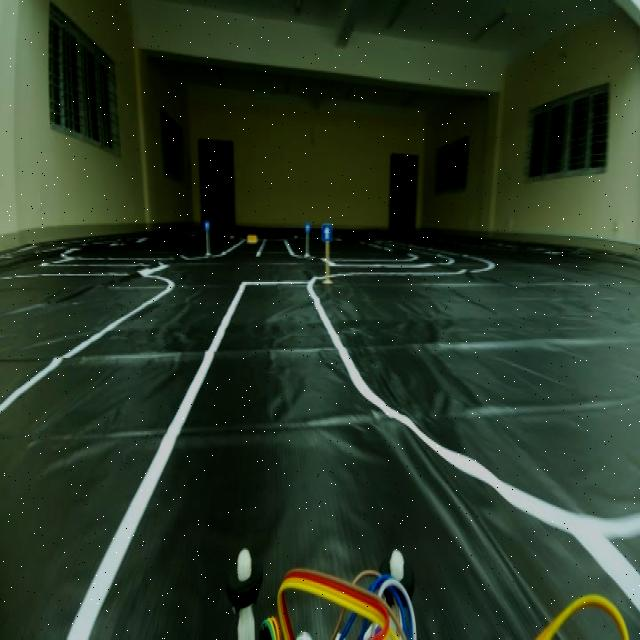onewayroad: (321, 220, 331, 246), (203, 215, 210, 230), (304, 222, 310, 233)
roadblock: (246, 230, 260, 246)
